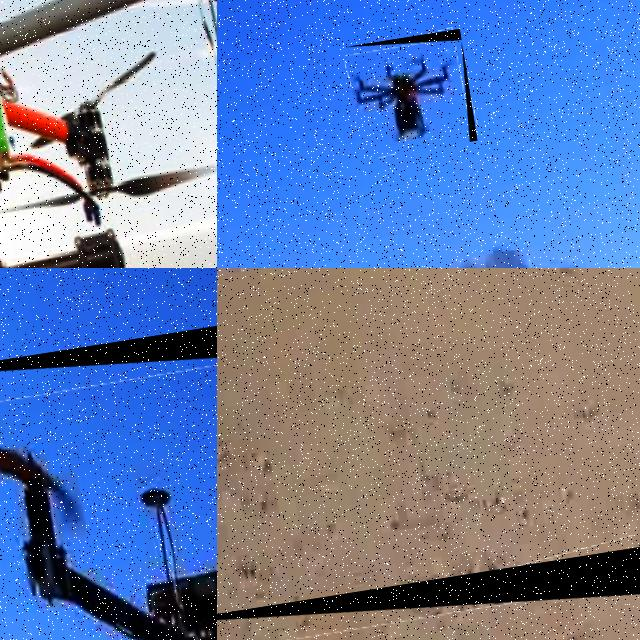0: (0, 290, 217, 640), (217, 545, 640, 640), (345, 28, 478, 158)
drone: (0, 0, 217, 268)
